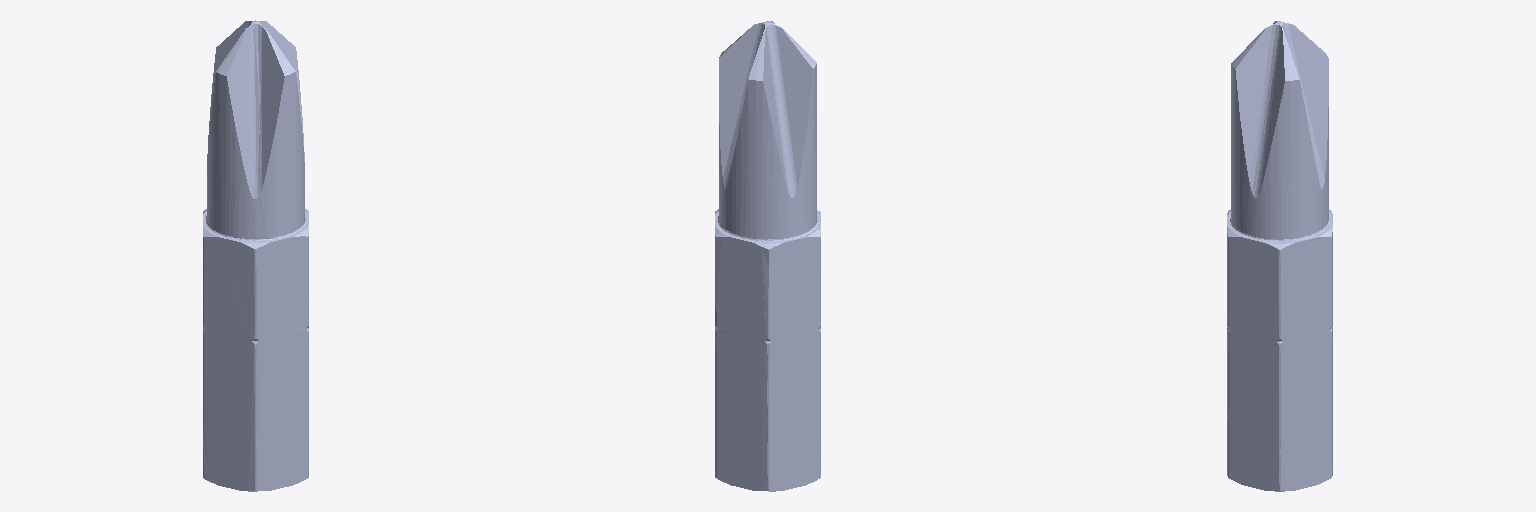
The robot description file, URDF, robot "ScrewDriverBitStar":
<robot  name="ScrewDriverBitStar">
  <link   name="ScrewDriverBitStar">
    <inertial>
      <origin
        xyz="0 0 0"
        rpy="0 0 0" />
      <mass
        value="0.01" />
      <inertia
        ixx="0"
        ixy="0"
        ixz="0"
        iyy="0"
        iyz="0"
        izz="0" />
    </inertial>
    <visual>
      <origin
        xyz="0 0 0"
        rpy="0 0 0" />
      <geometry>
        <mesh
          filename="package://rl_gazebo_sim/parts_descriptions/meshes/ScrewDriverBitStar.STL" />
      </geometry>
      <material
        name="">
        <color
          rgba="0.79216 0.81961 0.93333 1" />
      </material>
    </visual>
    <collision>
      <origin
        xyz="0 0 0"
        rpy="0 0 0" />
      <geometry>
        <mesh
          filename="package://rl_gazebo_sim/parts_descriptions/meshes/ScrewDriverBitStar.STL" />
      </geometry>
    </collision>
  </link>
</robot>

--- Render facts (derived) ---
Views: 3 orthographic renders of the robot side by side, from view 1: azimuth 30°, elevation 25°; view 2: azimuth 150°, elevation 25°; view 3: azimuth 270°, elevation 25°.
Model ScrewDriverBitStar with 1 links and 0 joints (none), rooted at ScrewDriverBitStar, posed every joint at zero.
Links seen in each view (by area): view 1: ScrewDriverBitStar; view 2: ScrewDriverBitStar; view 3: ScrewDriverBitStar.
Link boxes in pixels (x1=…): ScrewDriverBitStar: x1=203, y1=20, x2=308, y2=491; ScrewDriverBitStar: x1=715, y1=21, x2=820, y2=491; ScrewDriverBitStar: x1=1227, y1=21, x2=1332, y2=491.
Bounding box of the posed robot: 0.0072 × 0.0062 × 0.0292 m (x, y, z).
Meshes: 1 distinct files referenced, 1 mesh visuals loaded (1 binary STL).